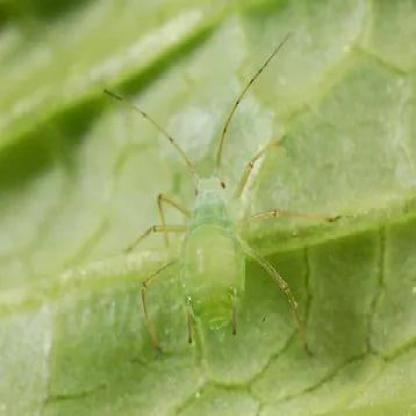aphid: (106, 91, 333, 343)
